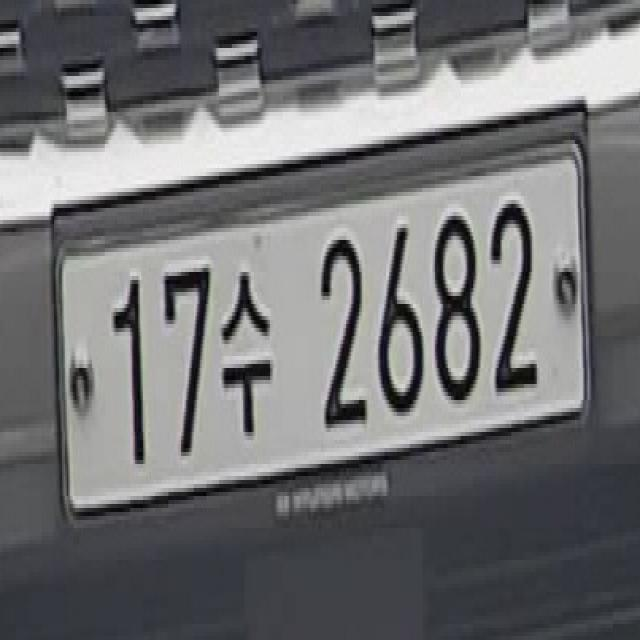1: (108, 260, 157, 496)
2: (488, 180, 543, 408), (318, 220, 372, 448)
6: (373, 204, 427, 428)
7: (160, 244, 216, 472)
8: (429, 196, 483, 412)
license_plate: (47, 96, 598, 576)
su: (218, 256, 276, 452)
